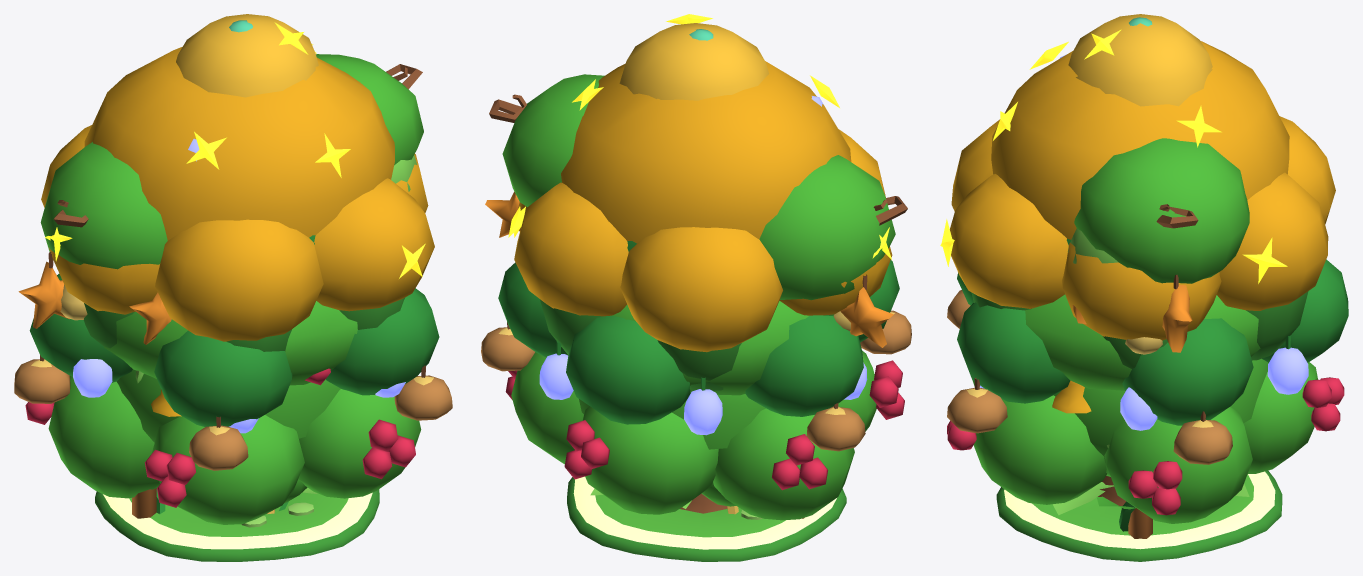
Rendered from trees.glb.
3 renders of one model, left to right at view 1: azimuth 30°, elevation 25°; view 2: azimuth 150°, elevation 25°; view 3: azimuth 270°, elevation 25°, orthographic. The views are drawn at different scales.
Visible parts, largest first — view 1: golden_grown, puffberry_grown, honeybun_grown, fruits (×5), starfig_grown, plot, glowplum_grown, ropevine_grown; view 2: golden_grown, puffberry_grown, honeybun_grown, starfig_grown, fruits (×4), plot, glowplum_grown; view 3: golden_grown, honeybun_grown, puffberry_grown, starfig_grown, fruits (×6), plot, glowplum_grown, ropevine_grown, cloudpear_grown, sproutbean_grown.
Part boxes in pixels (x1,y1,x2,y2): golden_grown: (41, 14, 434, 341); puffberry_grown: (48, 369, 421, 524); honeybun_grown: (29, 273, 439, 426); fruits (×5): (14, 138, 452, 507); starfig_grown: (40, 54, 423, 269); plot: (95, 489, 379, 561); glowplum_grown: (83, 235, 405, 356); ropevine_grown: (132, 488, 165, 518); golden_grown: (508, 14, 892, 352); puffberry_grown: (511, 350, 876, 520); honeybun_grown: (498, 260, 899, 513); starfig_grown: (489, 74, 907, 300); fruits (×4): (481, 96, 911, 490); plot: (567, 476, 846, 561); glowplum_grown: (540, 241, 833, 390); golden_grown: (940, 14, 1335, 340); honeybun_grown: (957, 259, 1348, 505); puffberry_grown: (972, 358, 1317, 523); starfig_grown: (1074, 138, 1249, 283); fruits (×6): (947, 54, 1344, 515); plot: (996, 470, 1282, 561); glowplum_grown: (971, 238, 1308, 368); ropevine_grown: (1096, 496, 1152, 538); cloudpear_grown: (1067, 228, 1117, 263); sproutbean_grown: (1052, 483, 1249, 515).
Bounding box in the file's own units: 2.63 × 2.99 × 2.29.
